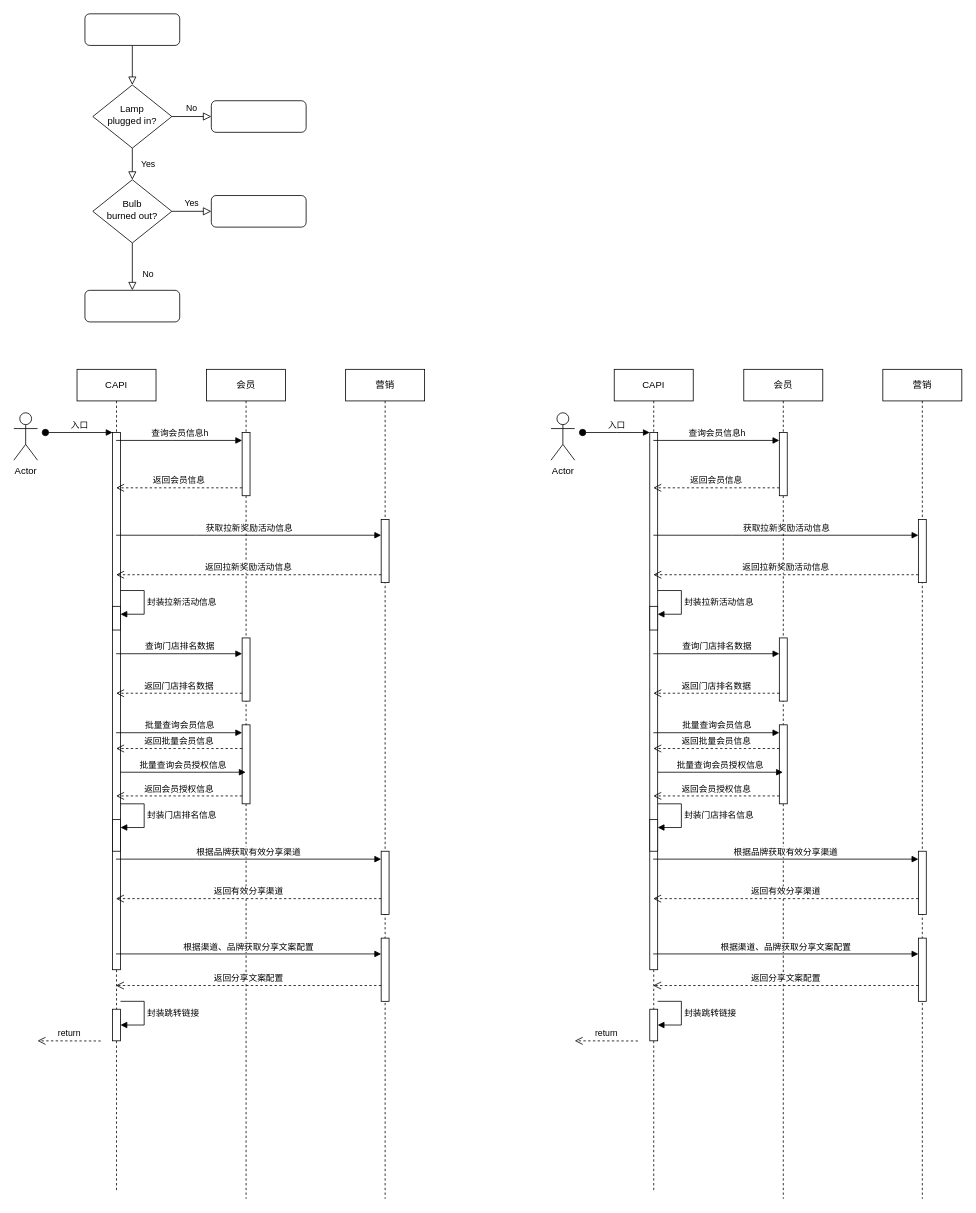
Some shapes in this 976 by 1213 pixel diagram are drawn without their labels. Each missing label, with the centre of its shape:
Lamp doesn't work: the point at 132,29
Plug in lamp: the point at 258,116
Repair Lamp: the point at 132,306
Replace Bulb: the point at 258,211
